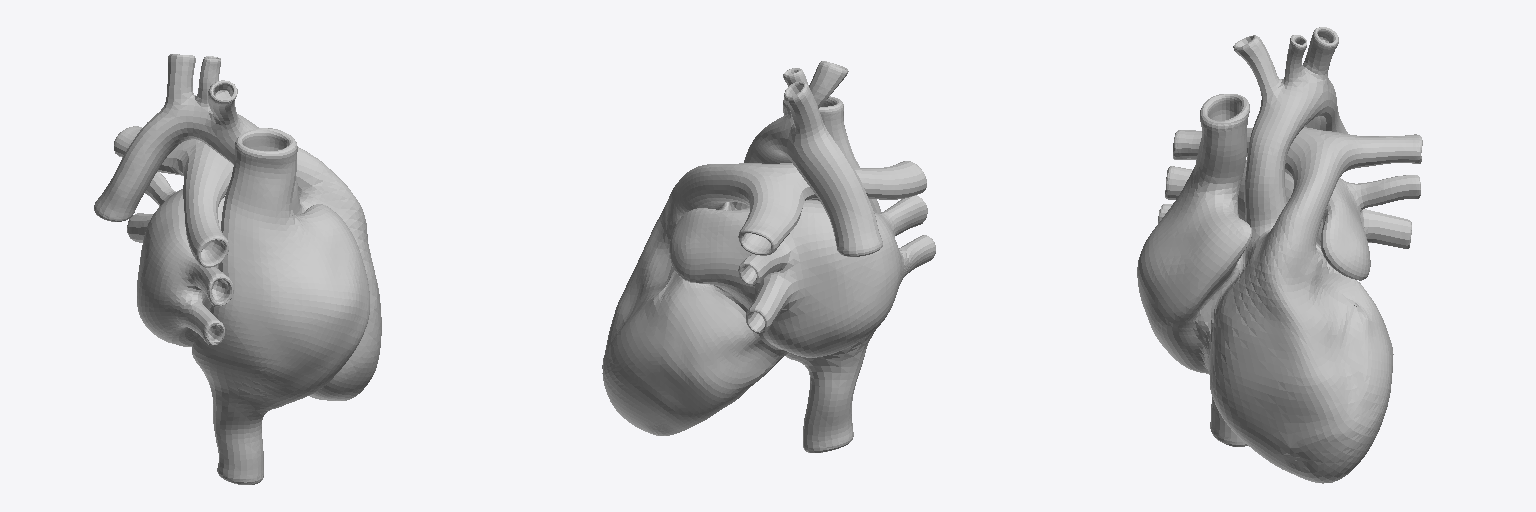
3 renders of one model, left to right at view 1: azimuth 30°, elevation 25°; view 2: azimuth 150°, elevation 25°; view 3: azimuth 270°, elevation 25°, orthographic.
Visible parts, largest first — view 1: HEART_PRO; view 2: HEART_PRO; view 3: HEART_PRO.
Part boxes in pixels (bbox=[...]): HEART_PRO: bbox=[94, 54, 381, 484]; HEART_PRO: bbox=[602, 61, 935, 452]; HEART_PRO: bbox=[1137, 27, 1422, 483].
Size of the model in its own units: 586 by 834 by 536.